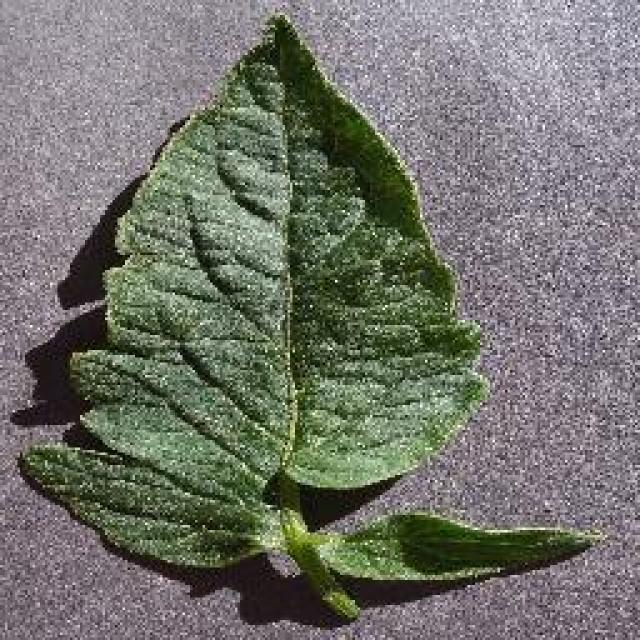Healthy: (7, 0, 595, 640)
